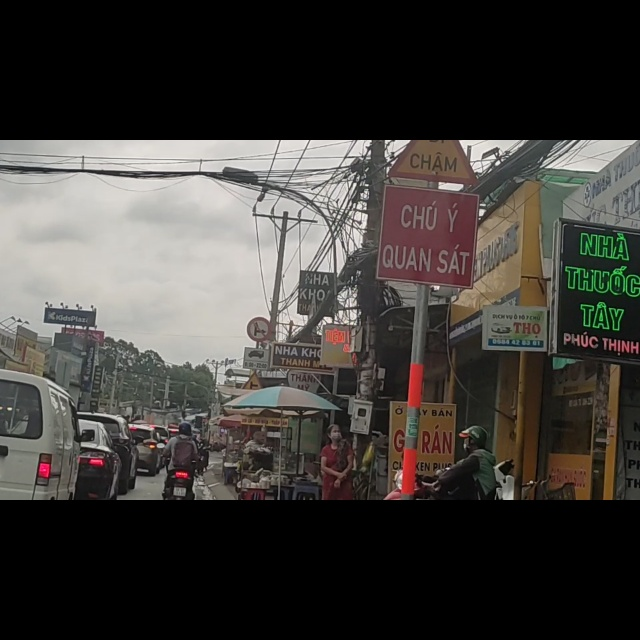bien_cam: (385, 1, 484, 75), (245, 311, 273, 361), (241, 411, 268, 448), (243, 370, 270, 407)
